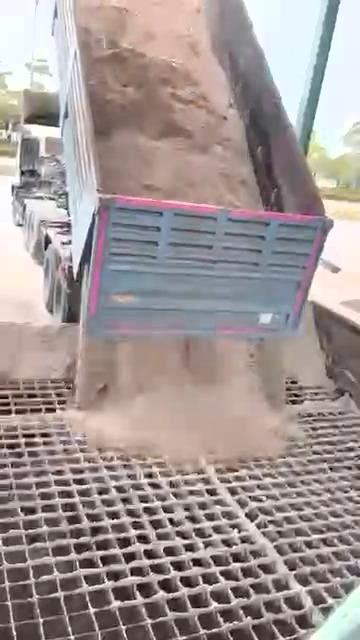sand: (1, 309, 330, 463), (77, 0, 260, 207), (207, 465, 321, 623), (288, 393, 358, 415)
